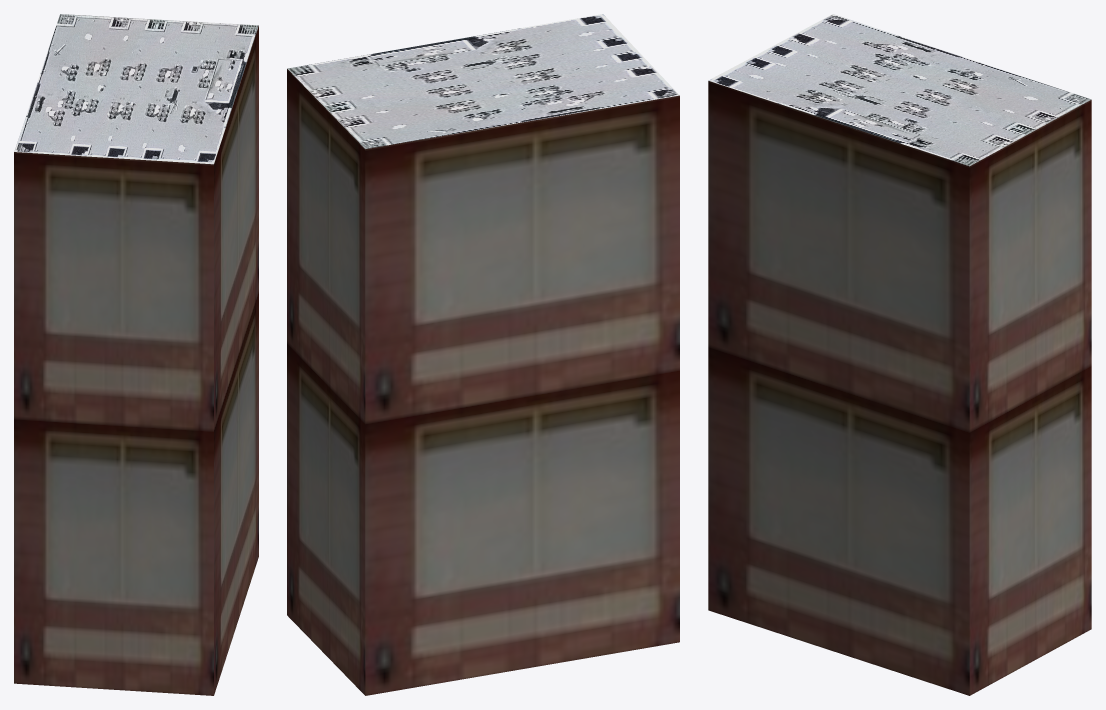
Rendered from ResTex__2094.fbx.
3 renders of one model, left to right at view 1: azimuth 30°, elevation 25°; view 2: azimuth 150°, elevation 25°; view 3: azimuth 270°, elevation 25°, orthographic. The views are drawn at different scales.
Parts seen in each view (by area): view 1: CityEngineMaterial_13_m, CityEngineMaterial_m; view 2: CityEngineMaterial_13_m, CityEngineMaterial_m; view 3: CityEngineMaterial_13_m, CityEngineMaterial_m.
Boxes of the visible parts, x1=… form: CityEngineMaterial_13_m: x1=14, y1=25, x2=258, y2=695; CityEngineMaterial_m: x1=14, y1=14, x2=258, y2=164; CityEngineMaterial_13_m: x1=287, y1=69, x2=679, y2=695; CityEngineMaterial_m: x1=287, y1=14, x2=679, y2=148; CityEngineMaterial_13_m: x1=708, y1=81, x2=1091, y2=695; CityEngineMaterial_m: x1=708, y1=14, x2=1091, y2=166.
Size of the model in its own units: 3.7 by 6 by 3.94.
Materials: 2 (2 with a texture image).
